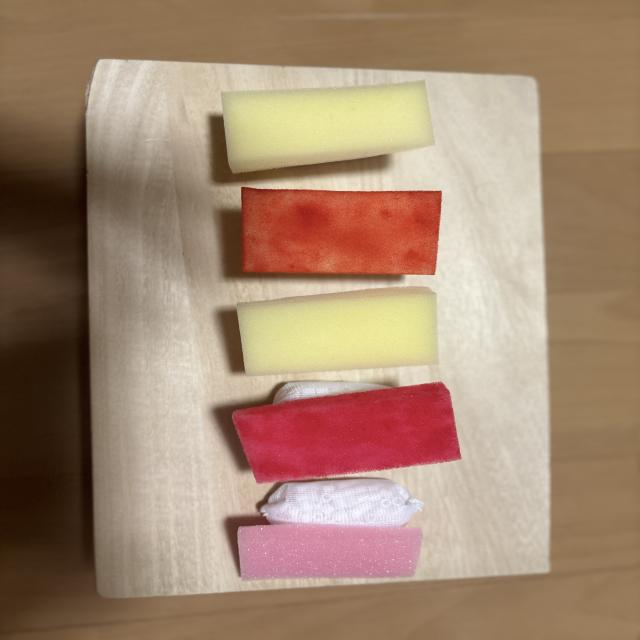NG: (238, 478, 422, 580)
maguro: (232, 381, 461, 483)
salmon: (242, 187, 441, 274)
tamago: (222, 81, 434, 173), (238, 287, 438, 375)
